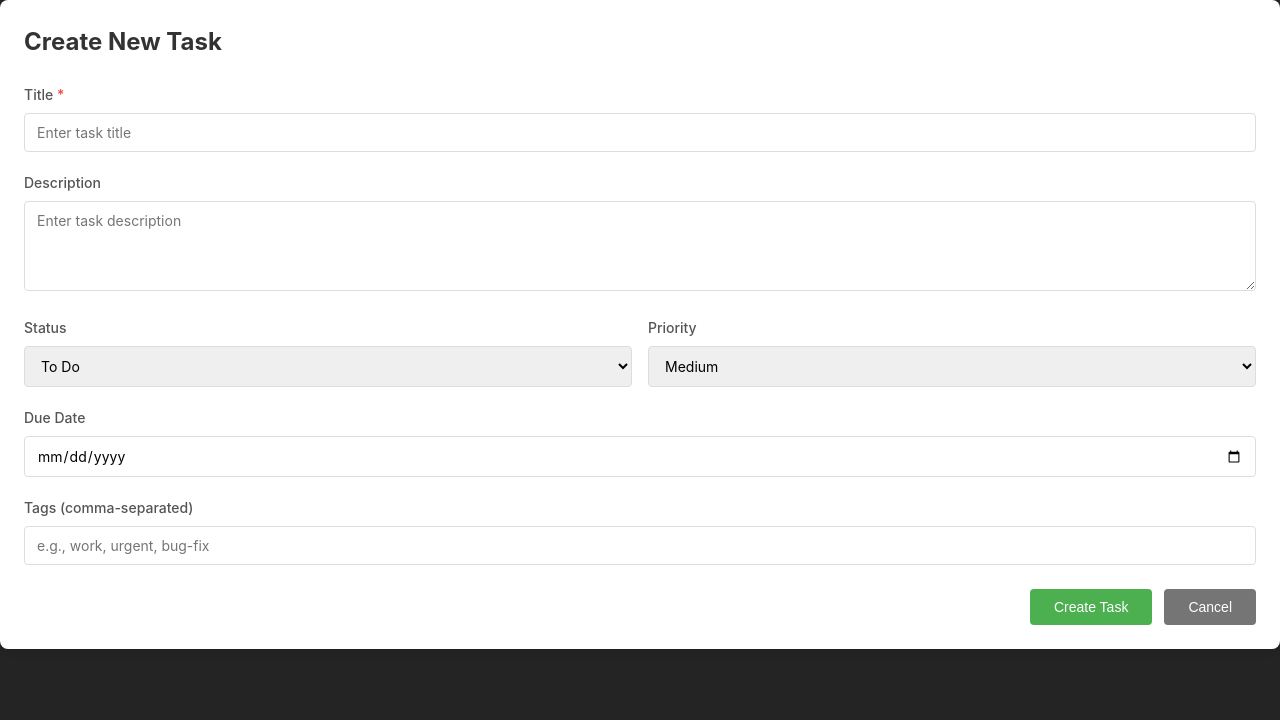
Test case: TaskForm Component › Form Validation › should show error when title is empty
Click the button "Create Task": (1091, 607) [1030,589,1152,625]
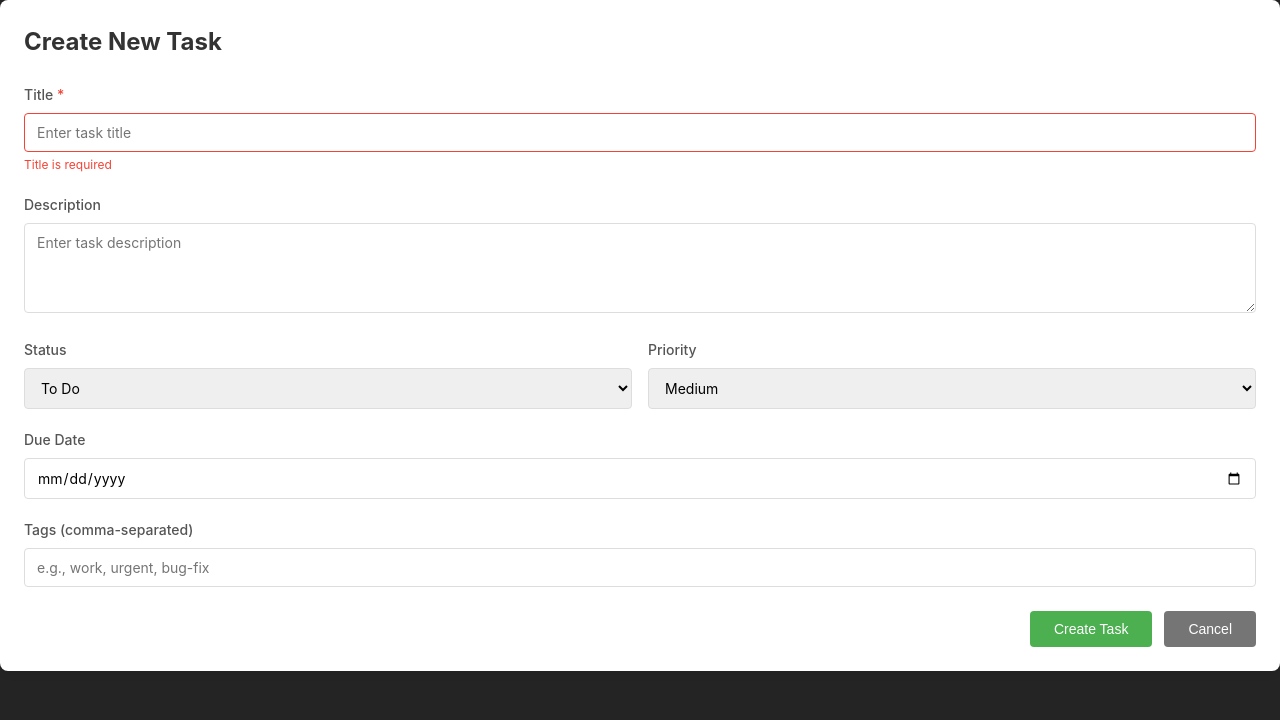
Now the text "Title is required" is shown, box [24,157,112,172]
